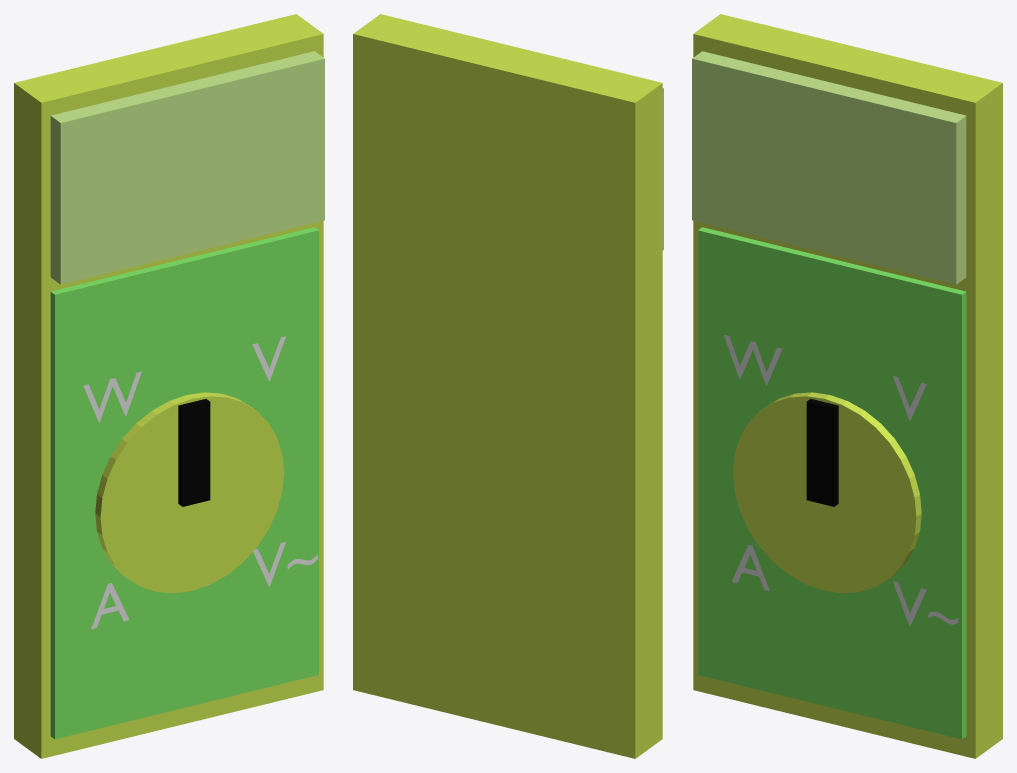
The model's file is multisim.fbx.
3 views of the same model, side by side, from view 1: azimuth 30°, elevation 25°; view 2: azimuth 150°, elevation 25°; view 3: azimuth 330°, elevation 25° (orthographic).
Visible parts, largest first — view 1: Block, Screen, Cube, Roll, Куб, Текст.003, Текст.001, Текст; view 2: Cube; view 3: Block, Screen, Cube, Roll, Куб, Текст.003, Текст.001, Текст.
Boxes of the visible parts, box(x1,y1,x2,y2) form: Block: box(50, 227, 318, 739); Screen: box(50, 51, 324, 284); Cube: box(14, 14, 323, 758); Roll: box(95, 392, 283, 593); Куб: box(178, 399, 210, 506); Текст.003: box(83, 371, 141, 422); Текст.001: box(253, 541, 317, 586); Текст: box(91, 583, 129, 629); Cube: box(353, 14, 662, 758); Block: box(698, 227, 966, 739); Screen: box(692, 51, 966, 284); Cube: box(693, 14, 1002, 758); Roll: box(733, 392, 921, 593); Куб: box(806, 399, 838, 506); Текст.003: box(724, 334, 782, 385); Текст.001: box(893, 581, 958, 625); Текст: box(731, 544, 769, 591).
Size of the model in its own units: 200 by 444 by 50.61.
